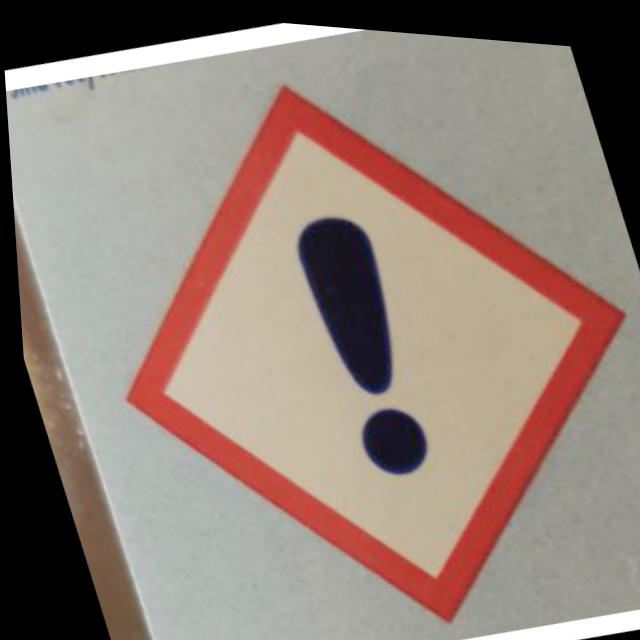health-ozone layer hazard: (285, 199, 436, 479)
